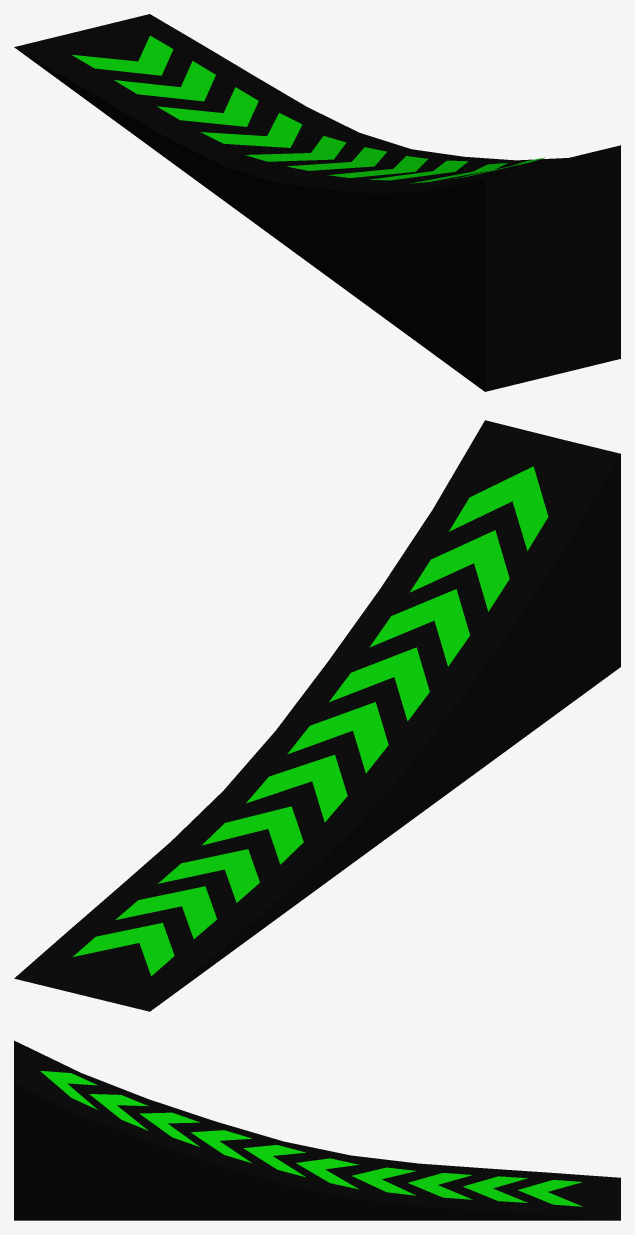
File: Lane-shared_stuntzone_18m_noAtlas.glb
3 renders of one model, top to bottom at view 1: azimuth 30°, elevation 25°; view 2: azimuth 150°, elevation 25°; view 3: azimuth 270°, elevation 25°, orthographic. The views are drawn at different scales.
Parts seen in each view (by area): view 1: Lane-shared_stuntzone_18m; view 2: Lane-shared_stuntzone_18m; view 3: Lane-shared_stuntzone_18m.
Boxes of the visible parts, x1,y1,x2,y2 form: Lane-shared_stuntzone_18m: (14,14,620,391); Lane-shared_stuntzone_18m: (14,420,620,1011); Lane-shared_stuntzone_18m: (14,1040,620,1220).
Bounding box in the file's own units: 3 × 4.5 × 18.
